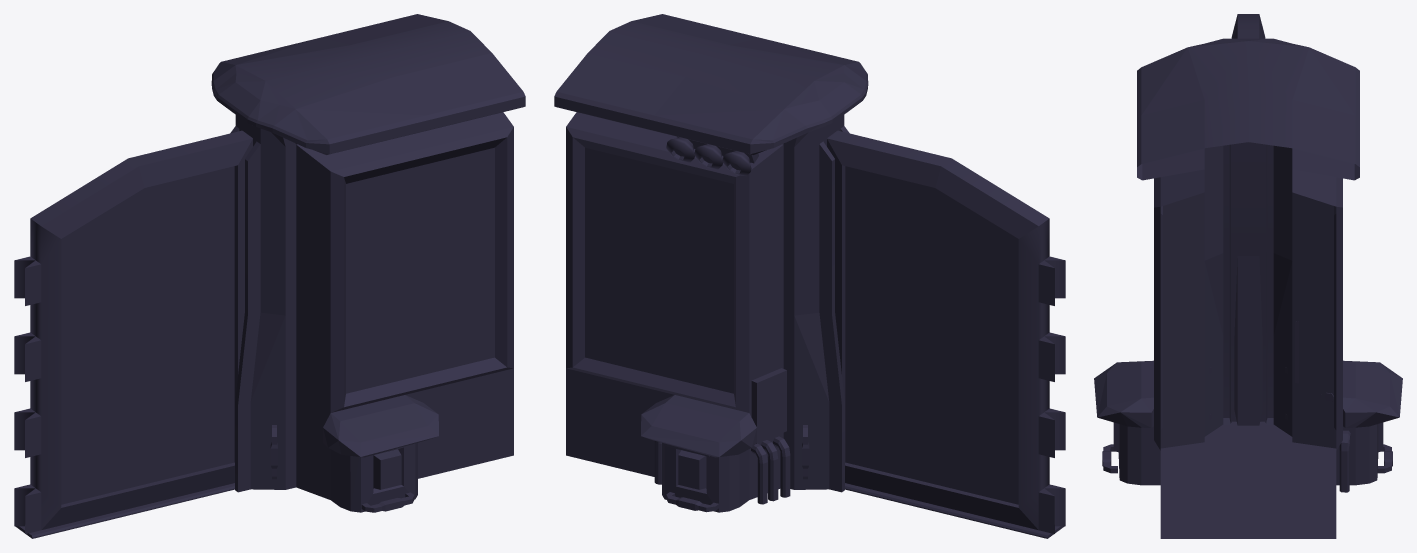
The model's file is gate_left_low.FBX.
3 views of the same model, side by side, from view 1: azimuth 30°, elevation 25°; view 2: azimuth 150°, elevation 25°; view 3: azimuth 270°, elevation 25° (orthographic).
Visible parts, largest first — view 1: Object002; view 2: Object002; view 3: Object002.
Boxes of the visible parts, <box> form: Object002: <box>14,14,525,538</box>; Object002: <box>554,14,1065,538</box>; Object002: <box>1094,14,1402,538</box>.
Size of the model in its own units: 7990 by 6655 by 4693.
